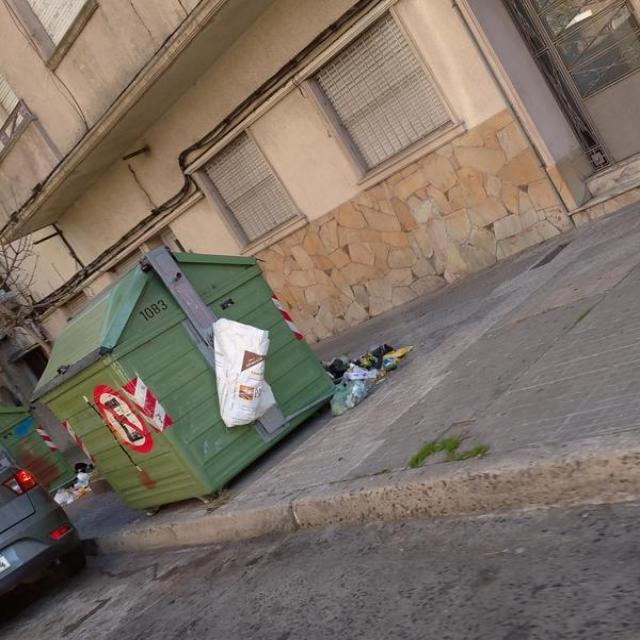garbage: (207, 306, 284, 444), (314, 329, 418, 419), (51, 460, 104, 512)
